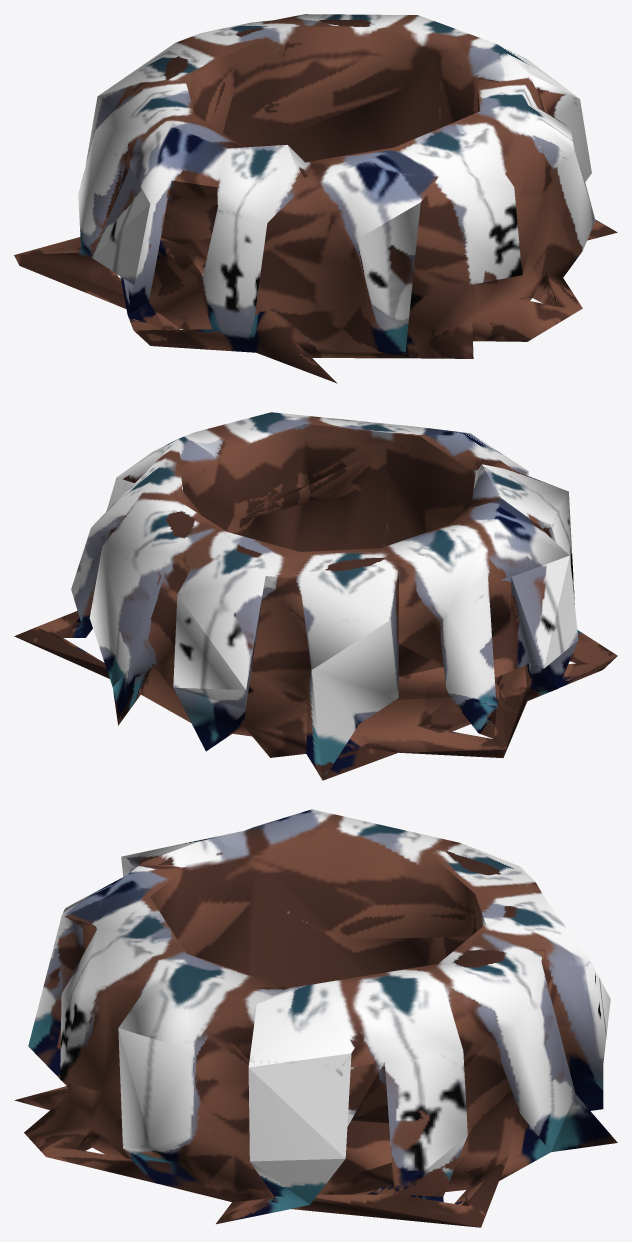
Rendered from demodog-nest.glb.
The picture shows the model from 3 angles, top to bottom: view 1: azimuth 30°, elevation 25°; view 2: azimuth 150°, elevation 25°; view 3: azimuth 270°, elevation 25°; orthographic projection. The views are drawn at different scales.
Parts seen in each view (by area): view 1: geometry_0.001; view 2: geometry_0.001; view 3: geometry_0.001.
Boxes of the visible parts, left/top/right/bottom form: geometry_0.001: left=14, top=14, right=617, bottom=383; geometry_0.001: left=14, top=412, right=617, bottom=780; geometry_0.001: left=14, top=809, right=617, bottom=1227.
Bounding box in the file's own units: 1.01 × 0.3785 × 0.9302.
1 material, 1 textured.
